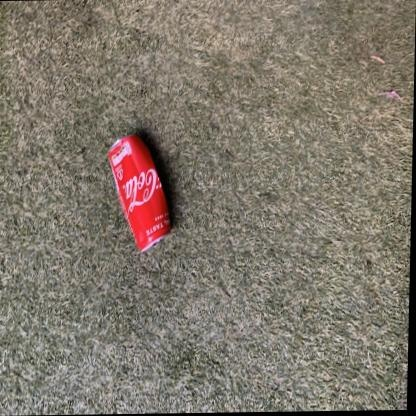trash: (108, 135, 170, 250)
